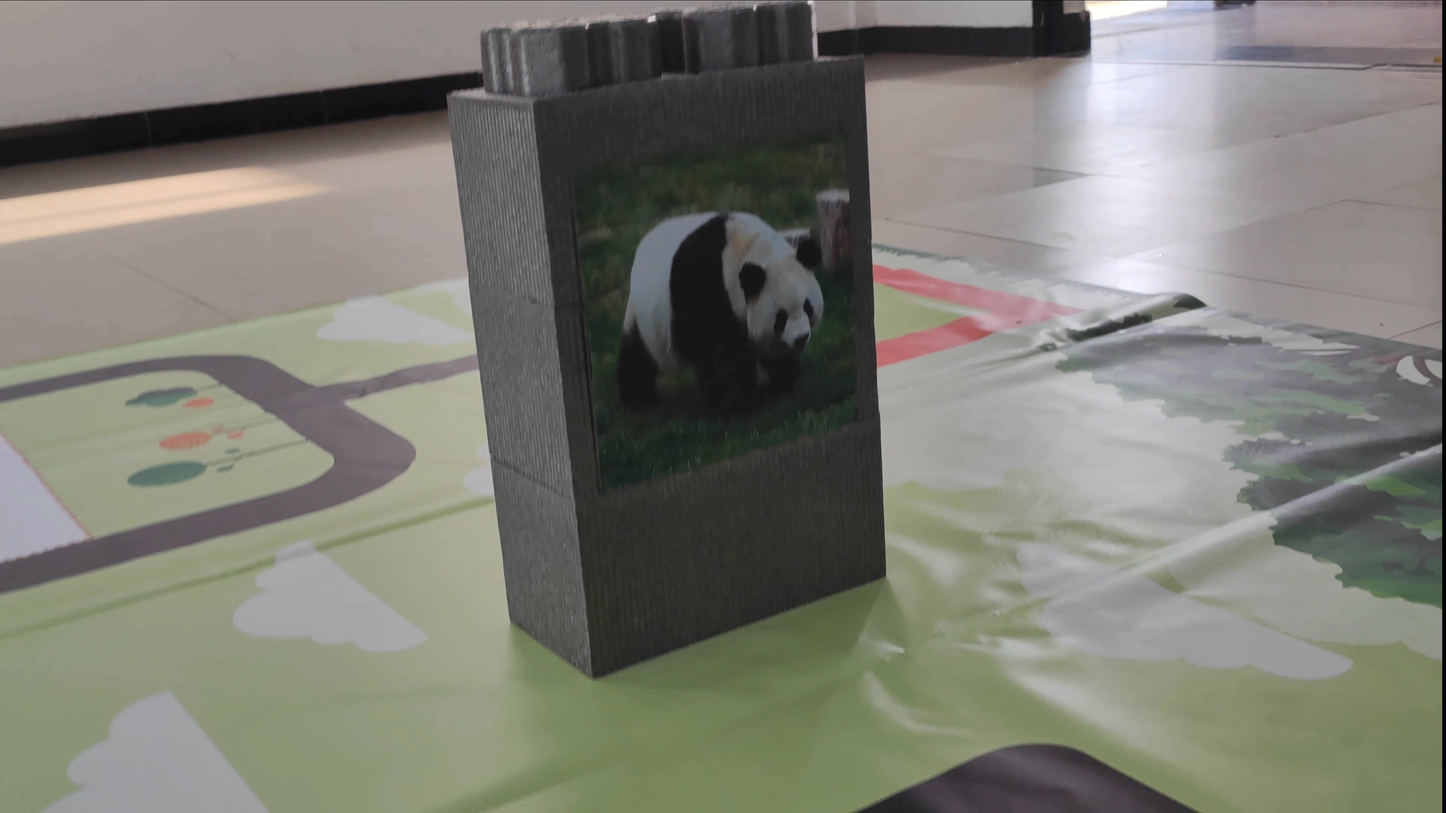panda: (589, 206, 859, 432)
